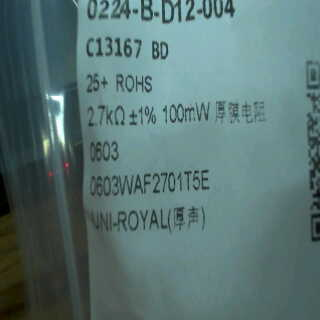2.7kR: (81, 104, 128, 128)
